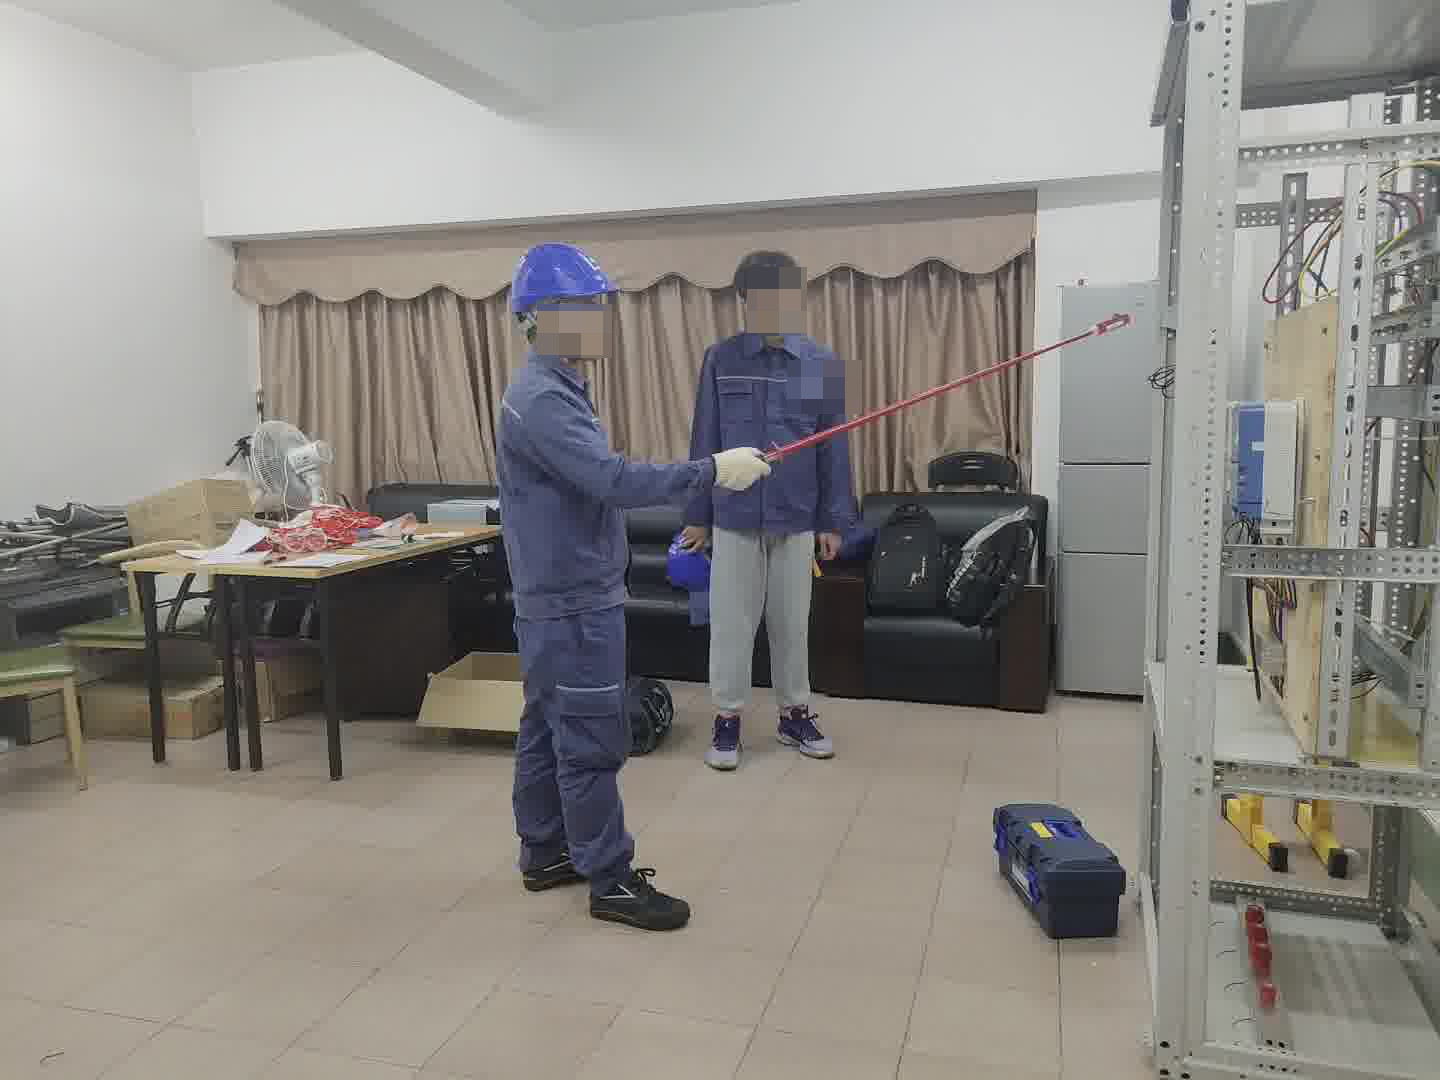downcloth: (698, 527, 820, 706)
downsuit: (507, 626, 641, 879)
halt: (505, 241, 622, 356)
hand: (815, 527, 844, 558), (677, 522, 705, 553)
inear: (517, 298, 576, 352)
person: (486, 234, 679, 921)
testrod: (755, 310, 1139, 465)
unhalt: (728, 248, 807, 335)
upsuit: (492, 349, 709, 596), (686, 315, 863, 531)
wglove: (714, 440, 772, 490)
